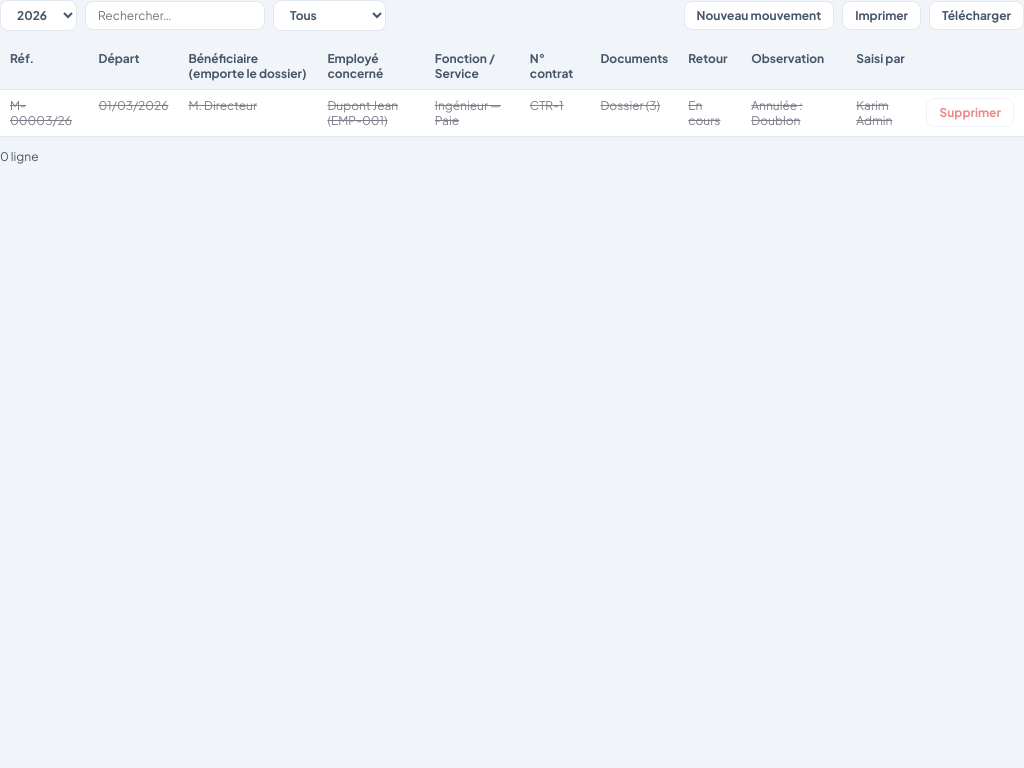
it: MouvementsPanel — suppression définitive et messages d'erreur › une mauvaise référence saisie ne supprime rien
Click the button with aria-label "Supprimer la ligne" at [970, 112], box [926, 98, 1014, 127]
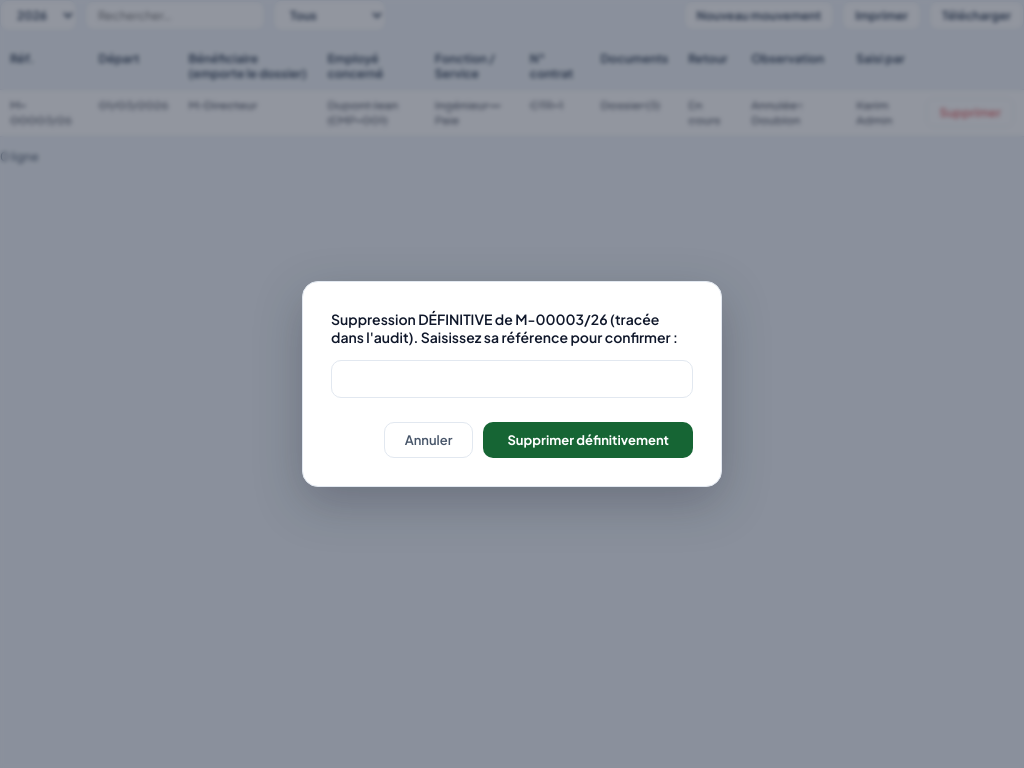
Type "M-99999/26" into the field at [512, 379], box [331, 360, 693, 398]
Then press Enter
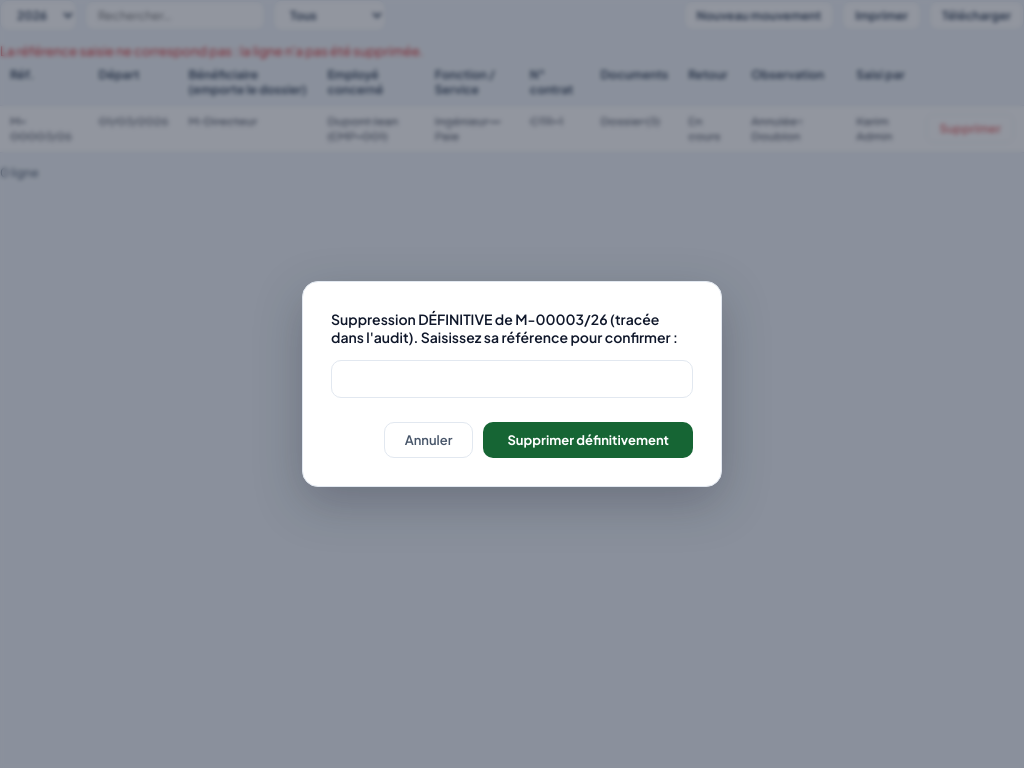
Check: the text "La référence saisie ne correspond pas : la ligne n'a pas été supprimée." is shown, box [0, 43, 423, 59]
